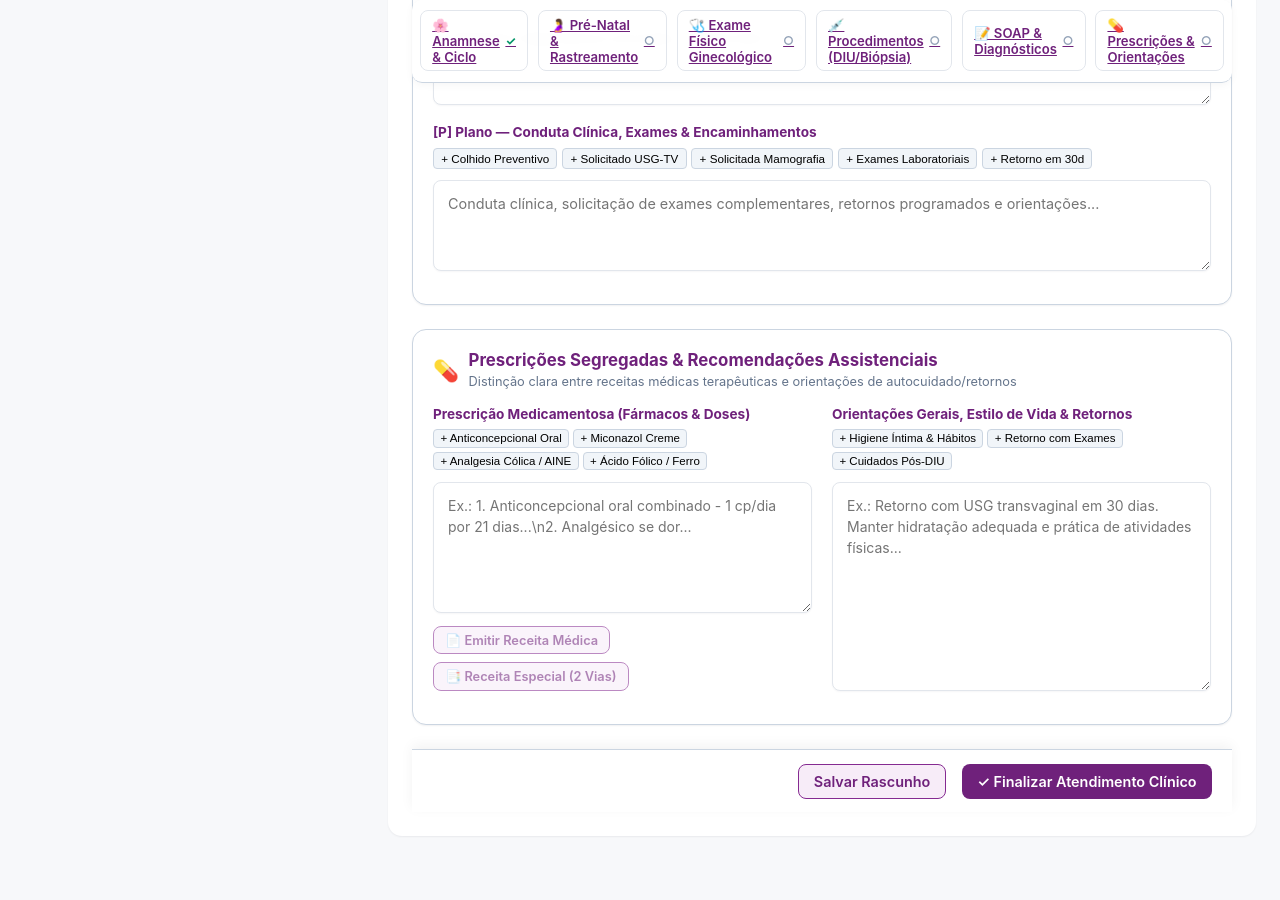
DoctorWorkspace Component › abre DocumentModal com medicamentos preenchidos a partir de prescricoes anotadas no consultorio
(page scrolled)
Digita uma prescrição no editor
Replace the text in the text box labelled "Prescrição Medicamentosa (Fármacos & Doses)" with "1. Desogestrel 75mcg — Tomar 1 comprimido ao dia" at (622, 547), box 433,482 -> 812,613
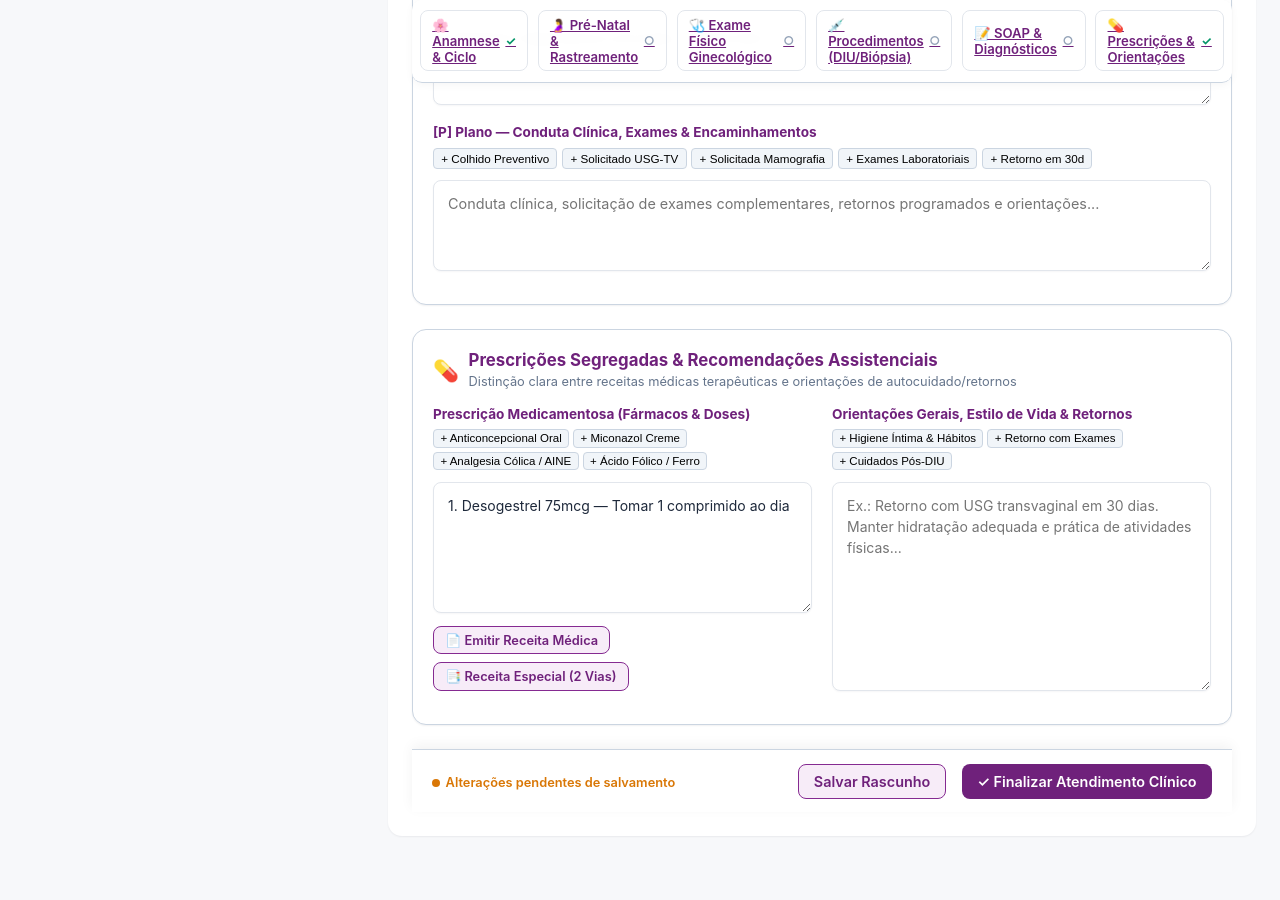
Clica no botão de emitir receita médica
Click the button "📄 Emitir Receita Médica" at (522, 640), box 433,626 -> 610,654
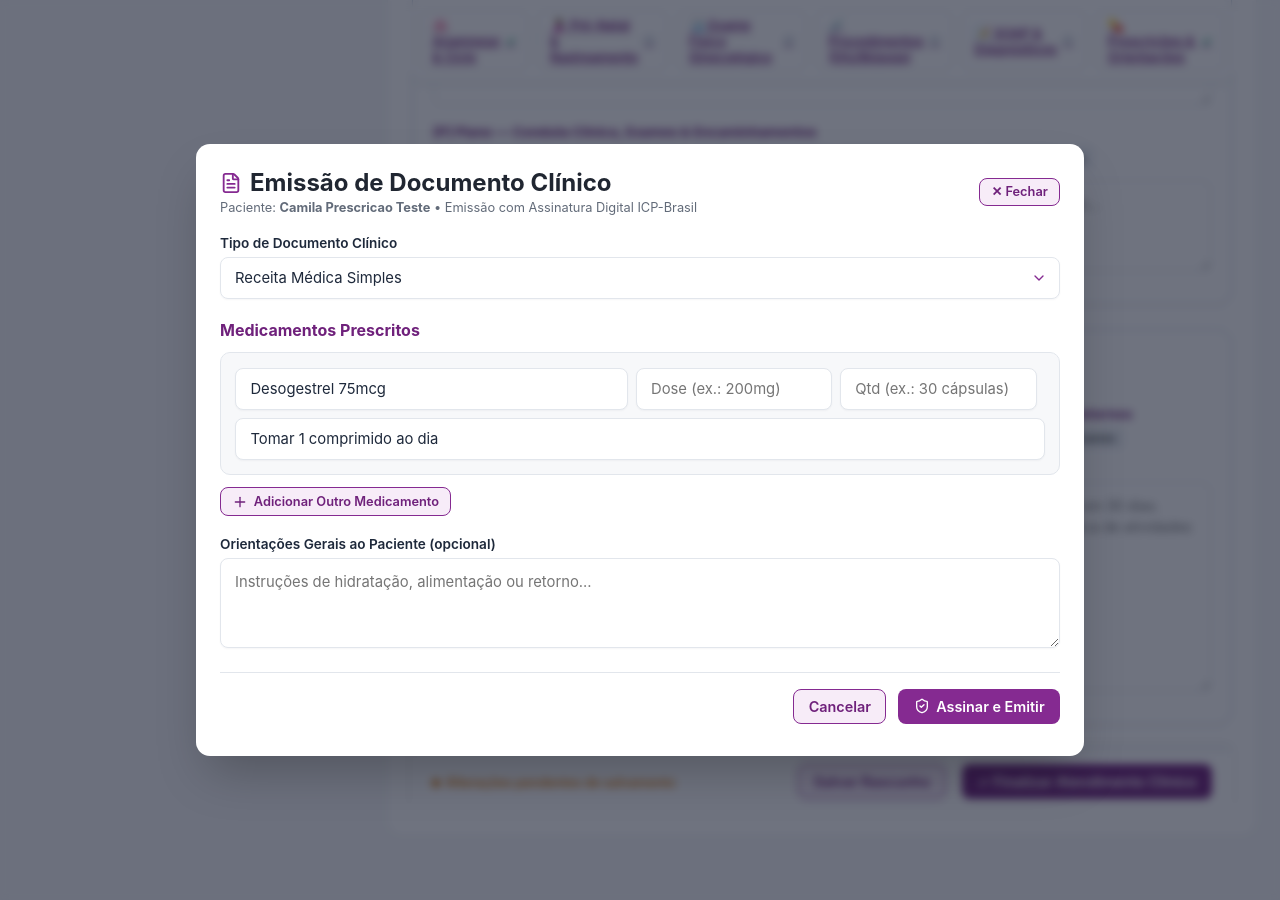
Check: the dialog is shown
Check: the 1st field showing "Desogestrel 75mcg" is shown, box 235,368 -> 628,410
